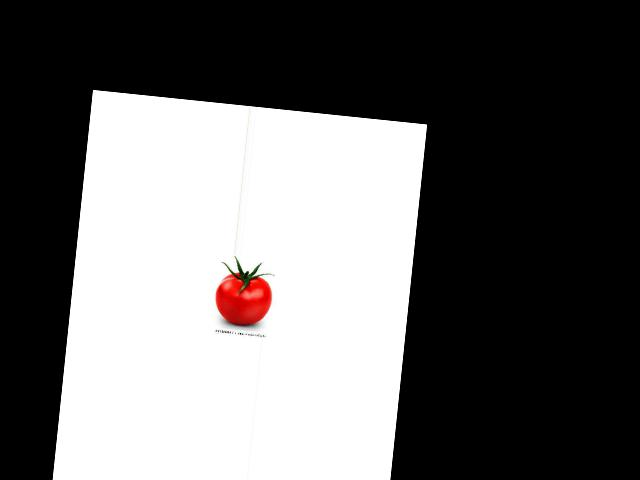tomato: (212, 271, 273, 327)
